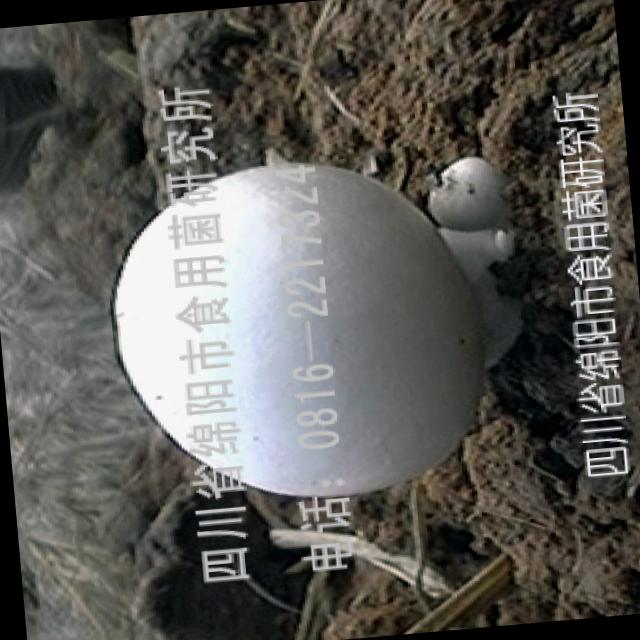Agaricus bisporus: (102, 132, 534, 516)
